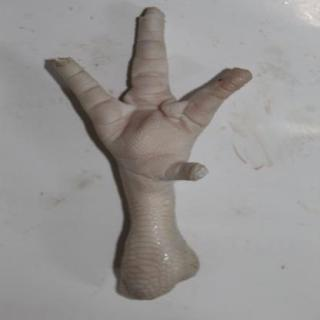Ayam: (47, 7, 254, 301)
